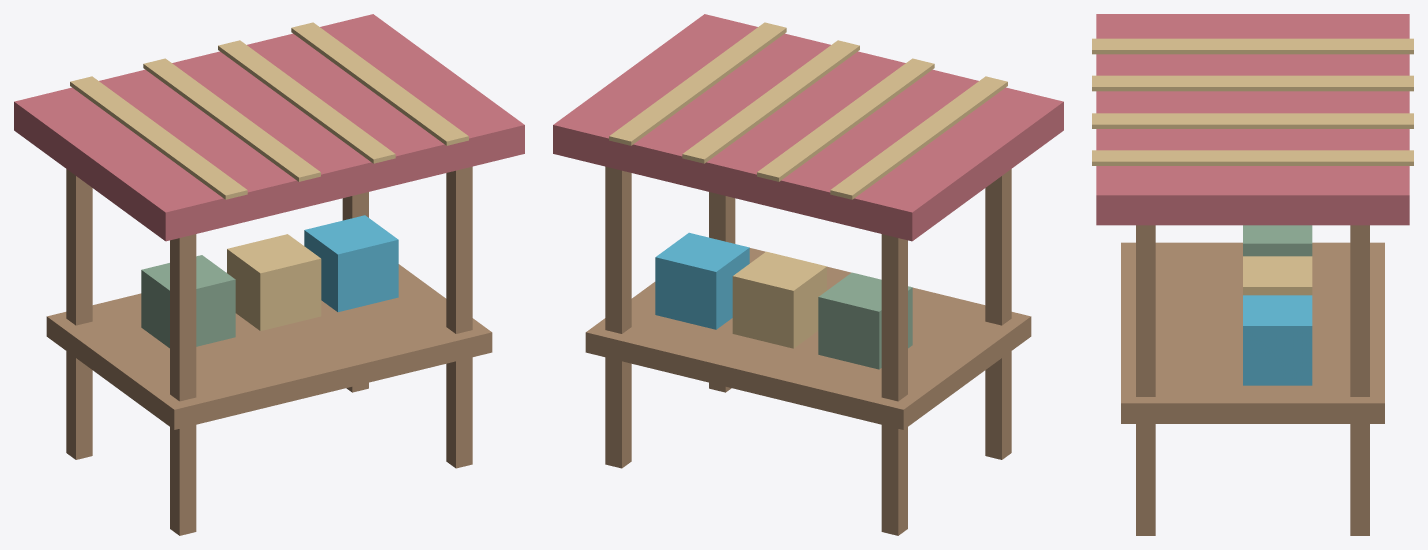
Rendered from sim-market-stall.gltf.
The picture shows the model from 3 angles, left to right: view 1: azimuth 30°, elevation 25°; view 2: azimuth 150°, elevation 25°; view 3: azimuth 270°, elevation 25°; orthographic projection. The views are drawn at different scales.
Visible parts, largest first — view 1: Mesh 5, Mesh 4, Mesh 11, Mesh 1, Mesh 3, Mesh 12, Mesh 0, Mesh 10, Mesh 8, Mesh 6, Mesh 9, Mesh 7 (+1 smaller); view 2: Mesh 5, Mesh 4, Mesh 11, Mesh 0, Mesh 2, Mesh 12, Mesh 1, Mesh 10, Mesh 8, Mesh 6, Mesh 9, Mesh 7 (+1 smaller); view 3: Mesh 5, Mesh 4, Mesh 12, Mesh 2, Mesh 3, Mesh 6, Mesh 7, Mesh 8, Mesh 9, Mesh 11, Mesh 10.
Boxes of the visible parts, x1=… form: Mesh 5: x1=14, y1=14, x2=524, y2=241; Mesh 4: x1=46, y1=264, x2=492, y2=429; Mesh 11: x1=227, y1=234, x2=321, y2=330; Mesh 1: x1=170, y1=234, x2=196, y2=535; Mesh 3: x1=446, y1=166, x2=472, y2=468; Mesh 12: x1=304, y1=215, x2=398, y2=312; Mesh 0: x1=66, y1=169, x2=92, y2=459; Mesh 10: x1=141, y1=255, x2=235, y2=348; Mesh 8: x1=218, y1=40, x2=395, y2=163; Mesh 6: x1=70, y1=76, x2=247, y2=199; Mesh 9: x1=291, y1=22, x2=468, y2=145; Mesh 7: x1=143, y1=58, x2=320, y2=181; Mesh 5: x1=553, y1=14, x2=1063, y2=241; Mesh 4: x1=585, y1=248, x2=1031, y2=429; Mesh 11: x1=732, y1=251, x2=826, y2=348; Mesh 0: x1=881, y1=234, x2=907, y2=535; Mesh 2: x1=605, y1=166, x2=631, y2=468; Mesh 12: x1=655, y1=232, x2=749, y2=329; Mesh 1: x1=985, y1=169, x2=1011, y2=459; Mesh 10: x1=818, y1=272, x2=912, y2=369; Mesh 8: x1=682, y1=40, x2=859, y2=163; Mesh 6: x1=830, y1=76, x2=1007, y2=199; Mesh 9: x1=609, y1=22, x2=786, y2=145; Mesh 7: x1=757, y1=58, x2=934, y2=181; Mesh 5: x1=1096, y1=14, x2=1409, y2=225; Mesh 4: x1=1121, y1=242, x2=1384, y2=423; Mesh 12: x1=1243, y1=295, x2=1312, y2=385; Mesh 2: x1=1350, y1=225, x2=1369, y2=535; Mesh 3: x1=1136, y1=225, x2=1155, y2=535; Mesh 6: x1=1092, y1=38, x2=1413, y2=54; Mesh 7: x1=1092, y1=75, x2=1413, y2=91; Mesh 8: x1=1092, y1=113, x2=1413, y2=128; Mesh 9: x1=1092, y1=150, x2=1413, y2=165; Mesh 11: x1=1243, y1=256, x2=1312, y2=295; Mesh 10: x1=1243, y1=225, x2=1312, y2=256.
Size of the model in its own units: 2.6 by 2.42 by 1.95.
